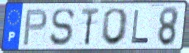8: (157, 5, 180, 48)
L: (130, 8, 151, 45)
O: (100, 7, 131, 47)
P: (21, 8, 49, 47)
S: (49, 7, 76, 47)
T: (80, 7, 101, 48)
